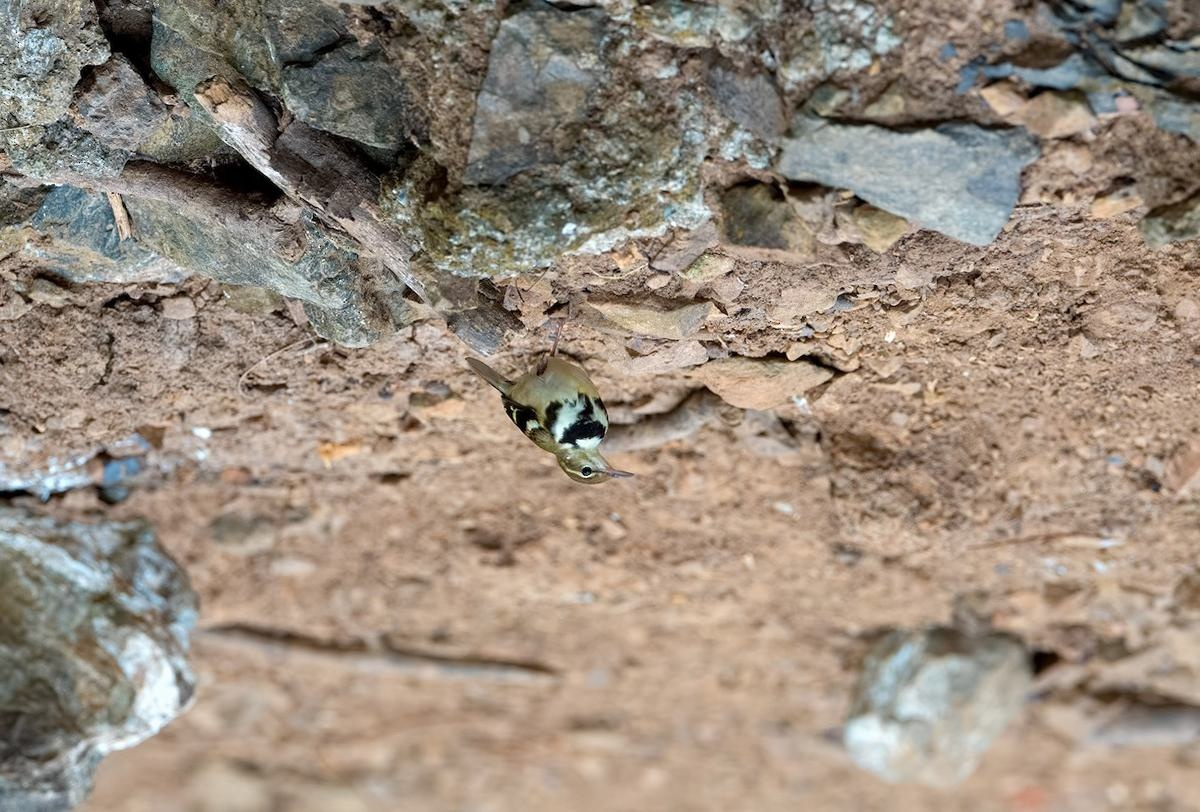wagtail: (471, 342, 646, 500)
